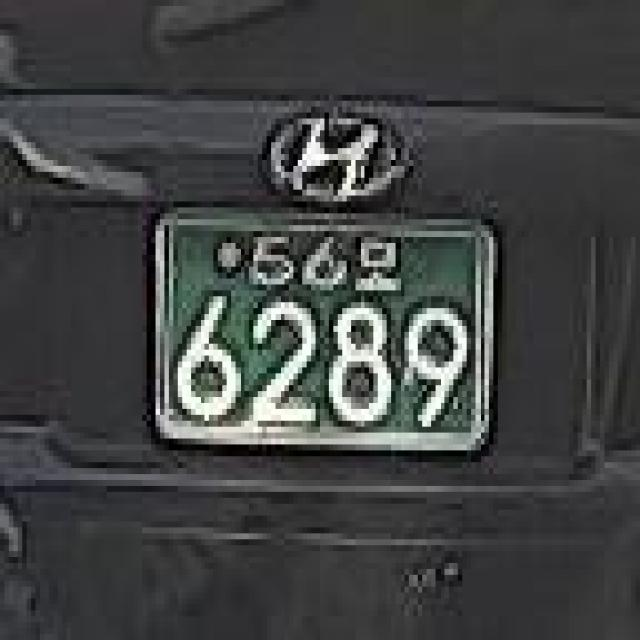illegal_plate: (140, 200, 506, 477)
